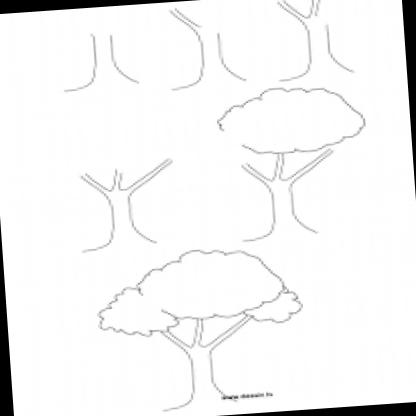branch_cut: (158, 312, 255, 354)
crown_cloud: (90, 242, 306, 341)
trunk_straight: (184, 358, 218, 386)
